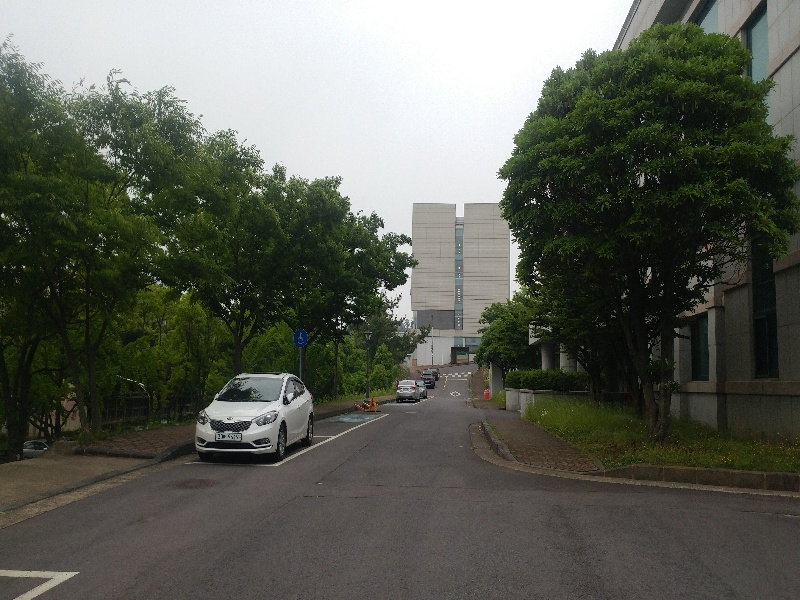Engineering College Building 4: (409, 203, 512, 366)
